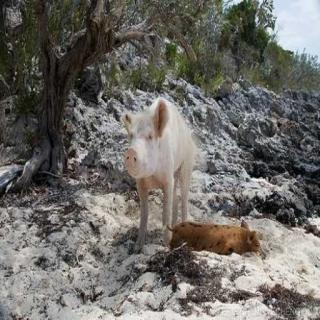Pig: (85, 75, 216, 208)
